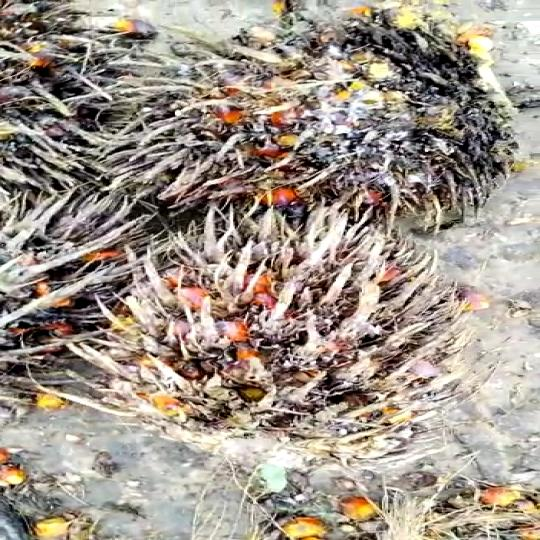terlalu masak: (75, 209, 491, 458), (108, 18, 524, 226)
